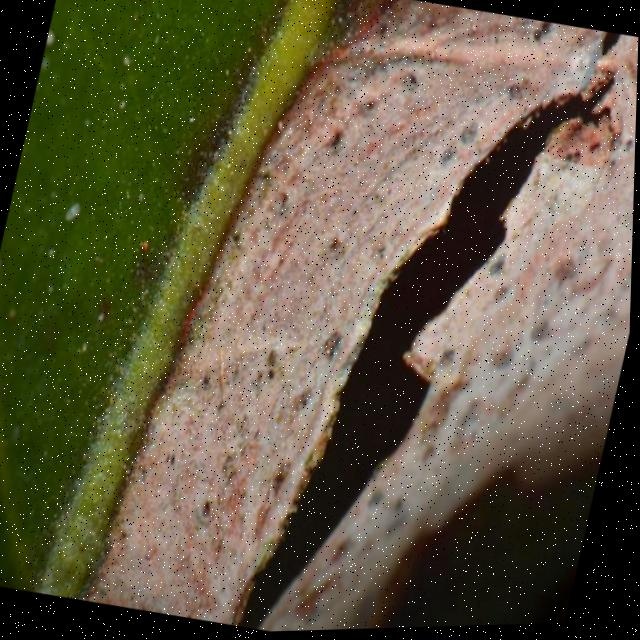Tea cloud leaf blight: (129, 0, 640, 636)
